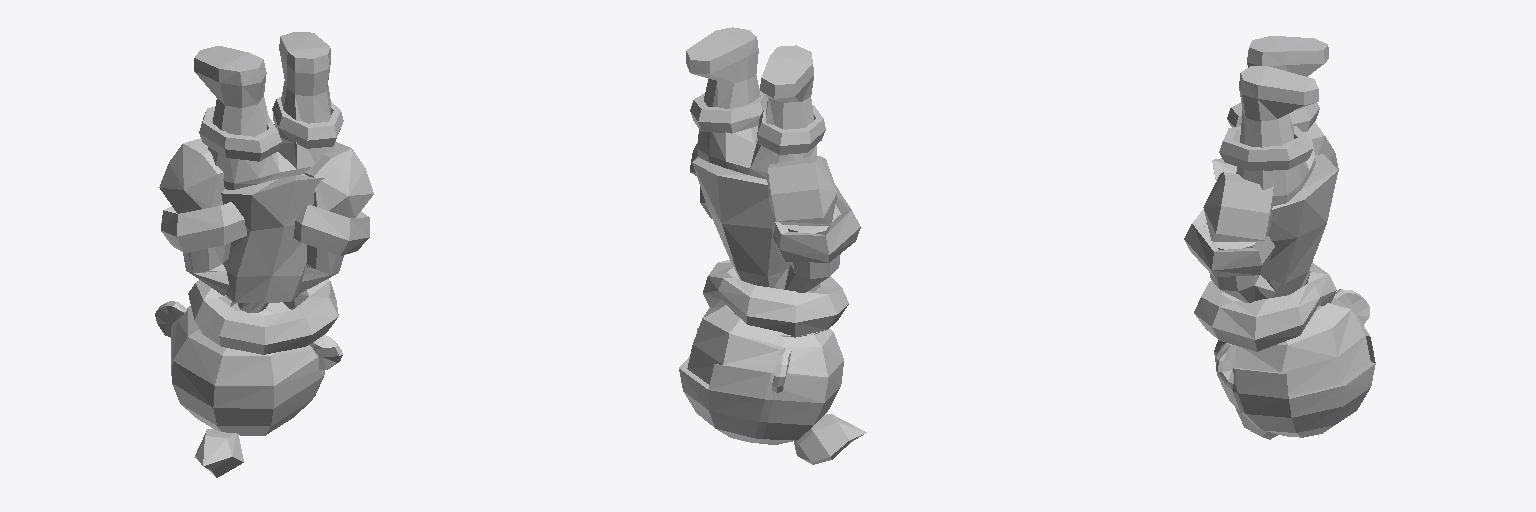
File: eikastanding_000122.obj
3 views of the same model, side by side, from view 1: azimuth 30°, elevation 25°; view 2: azimuth 150°, elevation 25°; view 3: azimuth 270°, elevation 25° (orthographic).
Parts seen in each view (by area): view 1: Cylinder; view 2: Cylinder; view 3: Cylinder.
Boxes of the visible parts, <box> form: Cylinder: <box>155,32,373,477</box>; Cylinder: <box>679,27,866,464</box>; Cylinder: <box>1184,36,1375,439</box>.
Size of the model in its own units: 24.73 by 55.64 by 23.78.